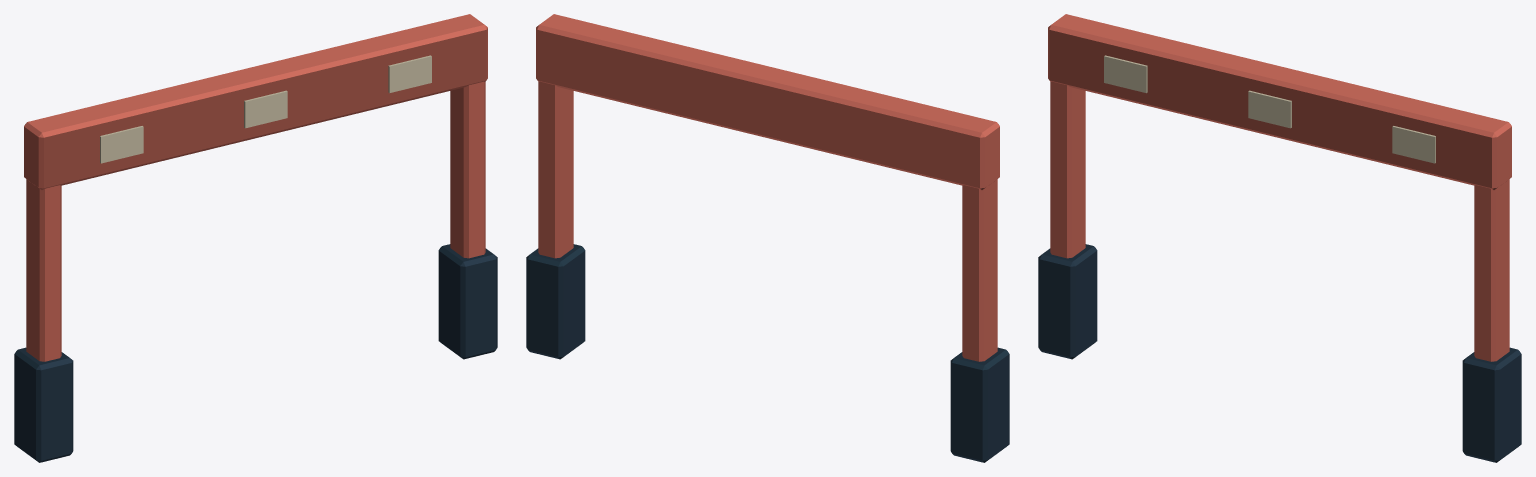
File: finish-gate.glb
The picture shows the model from 3 angles, left to right: view 1: azimuth 30°, elevation 25°; view 2: azimuth 150°, elevation 25°; view 3: azimuth 330°, elevation 25°; orthographic projection.
Visible parts, largest first — view 1: gate_frame; view 2: gate_frame; view 3: gate_frame.
Boxes of the visible parts, bbox=[...] form: gate_frame: bbox=[14, 14, 497, 462]; gate_frame: bbox=[526, 14, 1009, 462]; gate_frame: bbox=[1038, 14, 1521, 462].
Size of the model in its own units: 5.44 by 3.67 by 0.52.
